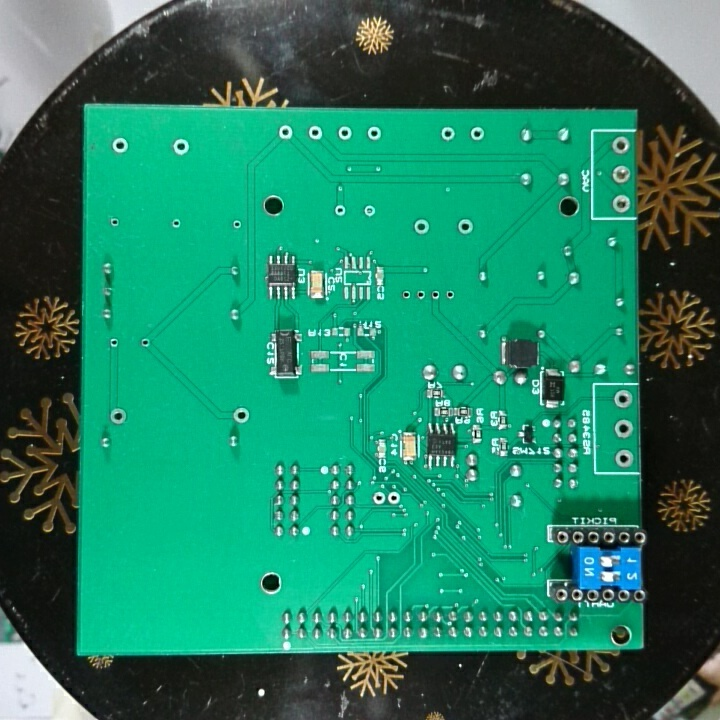F: (609, 163, 632, 185), (613, 446, 635, 469), (608, 134, 632, 155), (107, 405, 130, 426), (109, 135, 130, 158), (170, 136, 191, 159), (454, 217, 477, 238), (611, 192, 632, 215), (611, 388, 634, 409), (614, 416, 634, 440), (229, 406, 251, 426), (411, 216, 431, 238), (438, 123, 458, 144), (468, 125, 488, 146), (305, 123, 325, 143), (336, 123, 354, 143), (365, 123, 382, 144), (386, 489, 404, 507), (276, 123, 295, 140), (361, 202, 377, 222), (371, 489, 387, 509), (137, 335, 154, 353), (332, 202, 349, 219), (168, 215, 185, 231), (443, 286, 458, 303), (105, 215, 123, 229), (230, 216, 245, 232), (428, 287, 443, 303), (108, 335, 122, 351), (399, 287, 413, 303), (413, 287, 427, 302)
